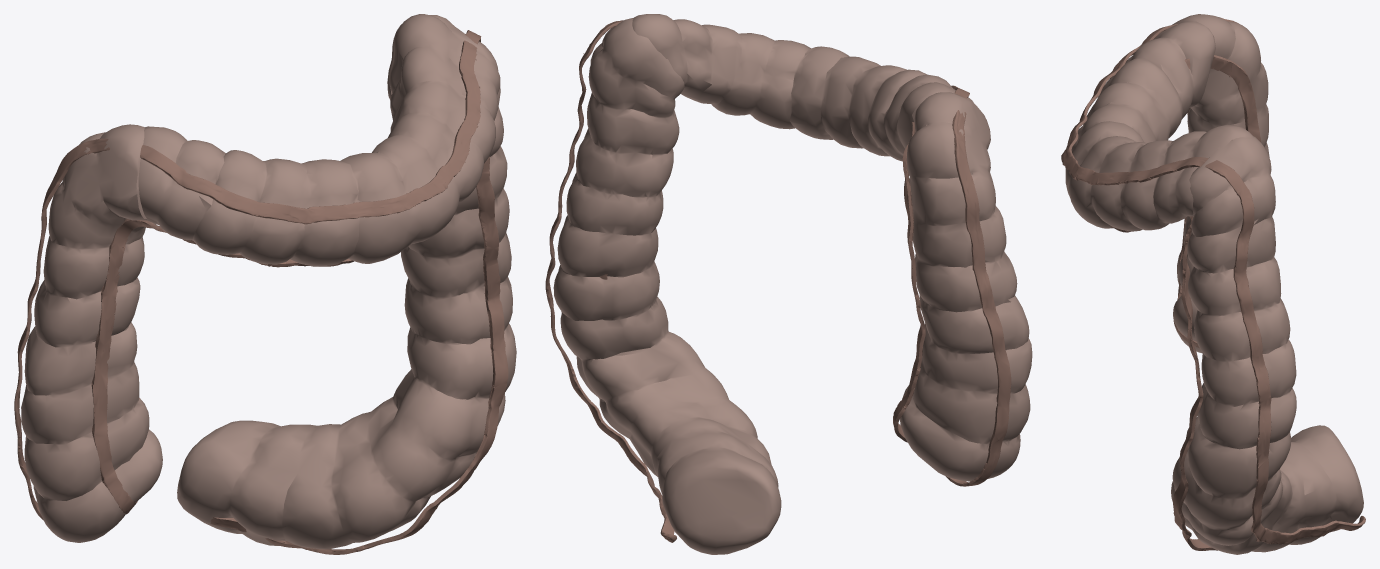
The model's file is colon.glb.
3 views of the same model, side by side, from view 1: azimuth 30°, elevation 25°; view 2: azimuth 150°, elevation 25°; view 3: azimuth 270°, elevation 25° (orthographic). The views are drawn at different scales.
Visible parts, largest first — view 1: FJ2567_BP49398_FMA14547_Descending colon.001; view 2: FJ2567_BP49398_FMA14547_Descending colon.001; view 3: FJ2567_BP49398_FMA14547_Descending colon.001.
Boxes of the visible parts, x1,y1,x2,y2 form: FJ2567_BP49398_FMA14547_Descending colon.001: [14, 14, 516, 554]; FJ2567_BP49398_FMA14547_Descending colon.001: [545, 14, 1032, 554]; FJ2567_BP49398_FMA14547_Descending colon.001: [1061, 14, 1365, 554].
Size of the model in its own units: 0.7547 by 0.7477 by 0.4482.
